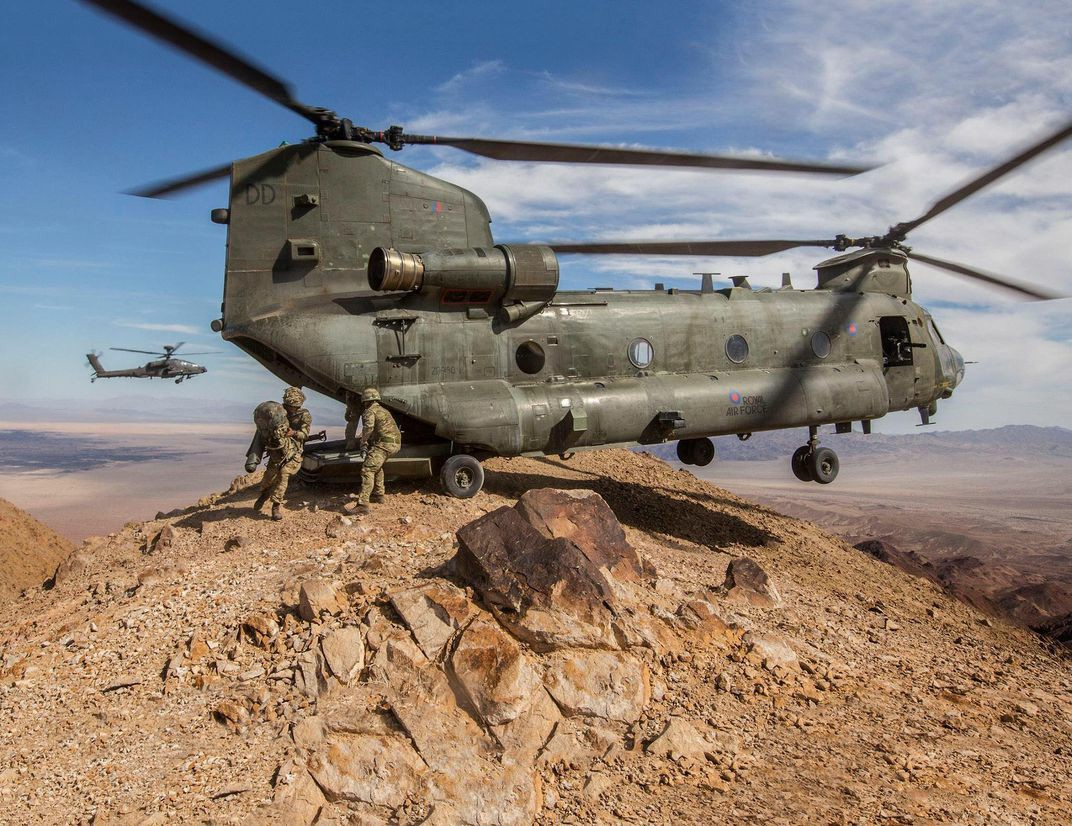apache ah-64: (68, 337, 219, 386)
chinook: (199, 102, 1017, 498)
